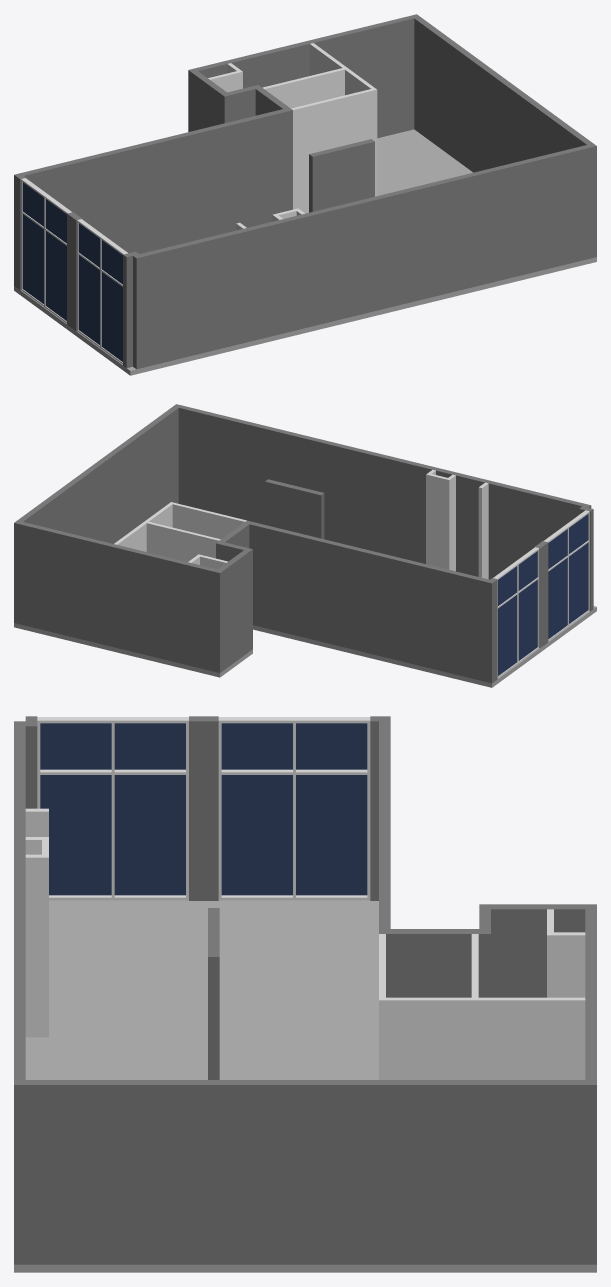
The model's file is room.glb.
The picture shows the model from 3 angles, top to bottom: view 1: azimuth 30°, elevation 25°; view 2: azimuth 150°, elevation 25°; view 3: azimuth 270°, elevation 25°; orthographic projection. The views are drawn at different scales.
Parts seen in each view (by area): view 1: Базовая стена Типовой - 200мм [289360], Базовая стена Типовой - 200мм [289398], Базовая стена Типовой - 200мм [289496], Базовая стена Типовой - 200мм [289467], Перекрытие Типовой 150мм [292053], Базовая стена Наружный - Сэндв_e4cd224, Базовая стена Типовой - 200мм [291010], Базовая стена Типовой - 200мм [289379], Базовая стена Наружный - Сэндв_716cbe5, Базовая стена Типовой - 200мм [289708], Системная панель С остекление_4391574, Системная панель С остекление_1b535f0 (+12 smaller); view 2: Базовая стена Типовой - 200мм [289360], Базовая стена Типовой - 200мм [289398], Базовая стена Типовой - 200мм [289467], Базовая стена Типовой - 200мм [289496], Базовая стена Типовой - 200мм [289708], Перекрытие Типовой 150мм [292053], Базовая стена Типовой - 200мм [291010], Базовая стена Типовой - 200мм [289379], Базовая стена Наружный - Сэндв_716cbe5, Базовая стена Наружный - Сэндв_d09f605, Базовая стена Наружный - Сэндв_e4cd224, Системная панель С остекление_4391574 (+13 smaller); view 3: Базовая стена Типовой - 200мм [289496], Перекрытие Типовой 150мм [292053], Базовая стена Наружный - Сэндв_d13f5ec, Системная панель С остекление_1b535f0, Системная панель С остекление_4d2f331, Системная панель С остекление_4391574, Системная панель С остекление_a3cbc71, Базовая стена Типовой - 200мм [289379], Базовая стена Типовой - 200мм [289638], Базовая стена Типовой - 200мм [289360], Базовая стена Типовой - 200мм [289708], Базовая стена Типовой - 200мм [289467] (+10 smaller).
Part boxes in pixels (x1,y1,x2,y2): Базовая стена Типовой - 200мм [289360]: (139, 143, 596, 367); Базовая стена Типовой - 200мм [289398]: (20, 109, 286, 253); Базовая стена Типовой - 200мм [289496]: (414, 17, 592, 172); Базовая стена Типовой - 200мм [289467]: (195, 14, 419, 138); Перекрытие Типовой 150мм [292053]: (14, 129, 596, 375); Базовая стена Наружный - Сэндв_e4cd224: (291, 89, 373, 213); Базовая стена Типовой - 200мм [291010]: (309, 139, 374, 212); Базовая стена Типовой - 200мм [289379]: (14, 173, 82, 331); Базовая стена Наружный - Сэндв_716cbe5: (262, 68, 344, 108); Базовая стена Типовой - 200мм [289708]: (188, 68, 226, 131); Системная панель С остекление_4391574: (78, 255, 99, 344); Системная панель С остекление_1b535f0: (22, 214, 43, 303); Базовая стена Типовой - 200мм [289360]: (173, 404, 584, 579); Базовая стена Типовой - 200мм [289398]: (249, 522, 489, 681); Базовая стена Типовой - 200мм [289467]: (14, 520, 217, 671); Базовая стена Типовой - 200мм [289496]: (17, 406, 178, 543); Базовая стена Типовой - 200мм [289708]: (214, 550, 249, 672); Перекрытие Типовой 150мм [292053]: (14, 606, 596, 687); Базовая стена Типовой - 200мм [291010]: (265, 479, 324, 538); Базовая стена Типовой - 200мм [289379]: (486, 541, 548, 683); Базовая стена Наружный - Сэндв_716cbe5: (146, 522, 220, 561); Базовая стена Наружный - Сэндв_d09f605: (426, 473, 447, 568); Базовая стена Наружный - Сэндв_e4cd224: (172, 503, 246, 539); Системная панель С остекление_4391574: (548, 558, 567, 638); Базовая стена Типовой - 200мм [289496]: (25, 1080, 585, 1264); Перекрытие Типовой 150мм [292053]: (14, 900, 596, 1272); Базовая стена Наружный - Сэндв_d13f5ec: (379, 997, 585, 1079); Системная панель С остекление_1b535f0: (296, 775, 367, 895); Системная панель С остекление_4d2f331: (221, 775, 292, 895); Системная панель С остекление_4391574: (114, 775, 185, 895); Системная панель С остекление_a3cbc71: (40, 775, 111, 895); Базовая стена Типовой - 200мм [289379]: (189, 716, 390, 900); Базовая стена Типовой - 200мм [289638]: (379, 929, 490, 997); Базовая стена Типовой - 200мм [289360]: (14, 726, 25, 1264); Базовая стена Типовой - 200мм [289708]: (491, 904, 596, 997); Базовая стена Типовой - 200мм [289467]: (585, 909, 596, 1264).
Bounding box in the file's own units: 14.96 × 3.55 × 10.
